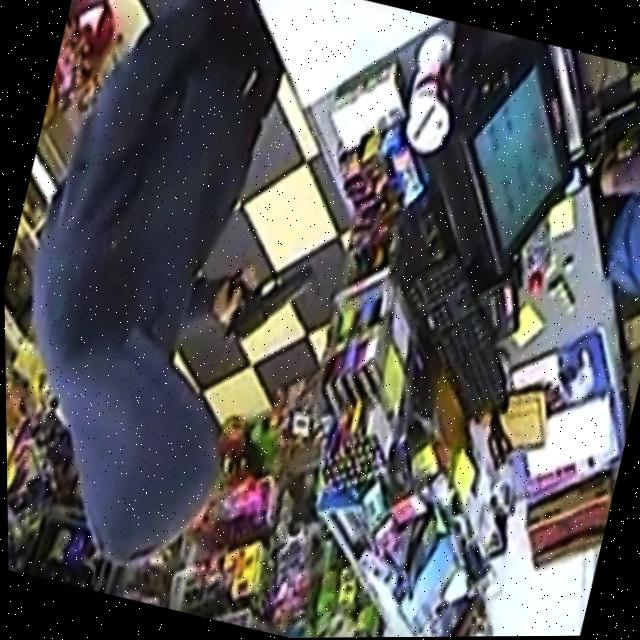pistol: (218, 248, 317, 363)
